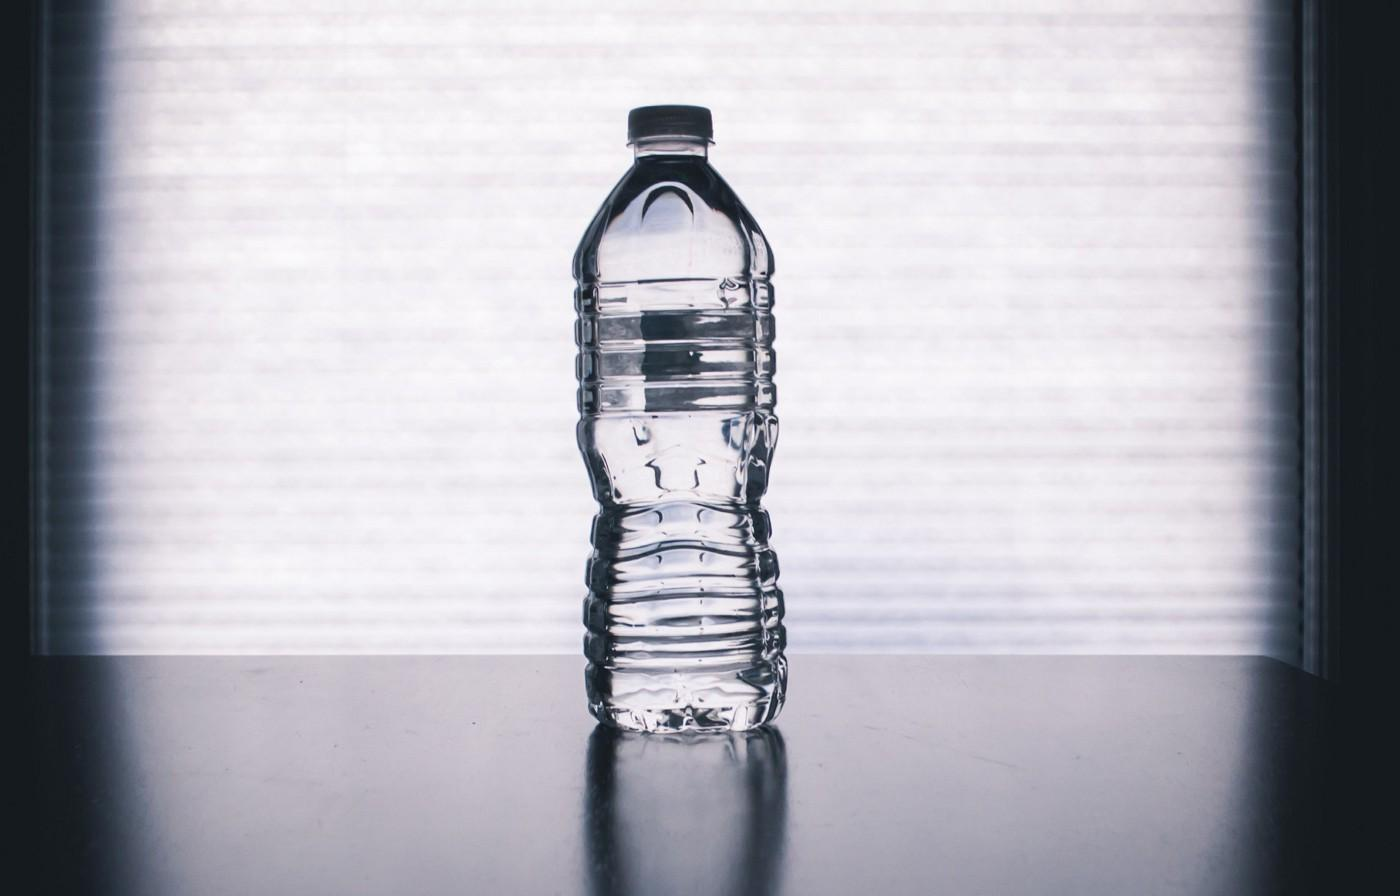bottle: (546, 84, 803, 757)
